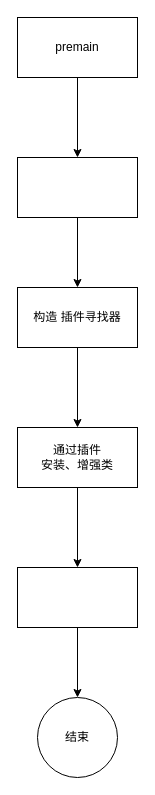
The diagram is 155 pixels wide and 795 high, and some of its shapes have lost their labels. Here are the shapes that lost their labels. From the top down, the centre of each, then its label:
At [77,187]: "初始化配置".
At [77,597]: "回调生命周期函数".
